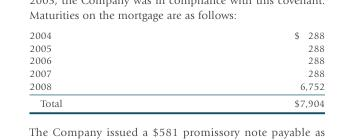table: (28, 29, 323, 108)
table column: (28, 29, 177, 108), (177, 29, 323, 108)
table row: (28, 79, 323, 94), (28, 94, 323, 108), (28, 53, 323, 66), (28, 66, 323, 79), (28, 29, 323, 41), (28, 41, 323, 53)
